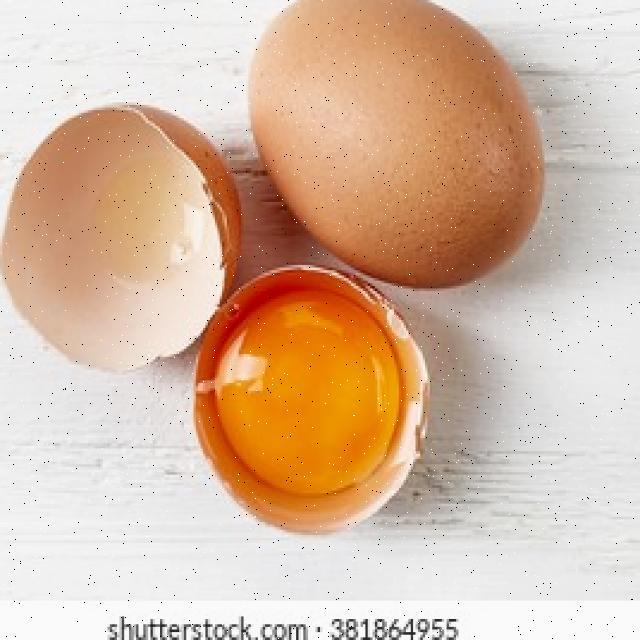Brown Egg: (253, 0, 557, 289)
